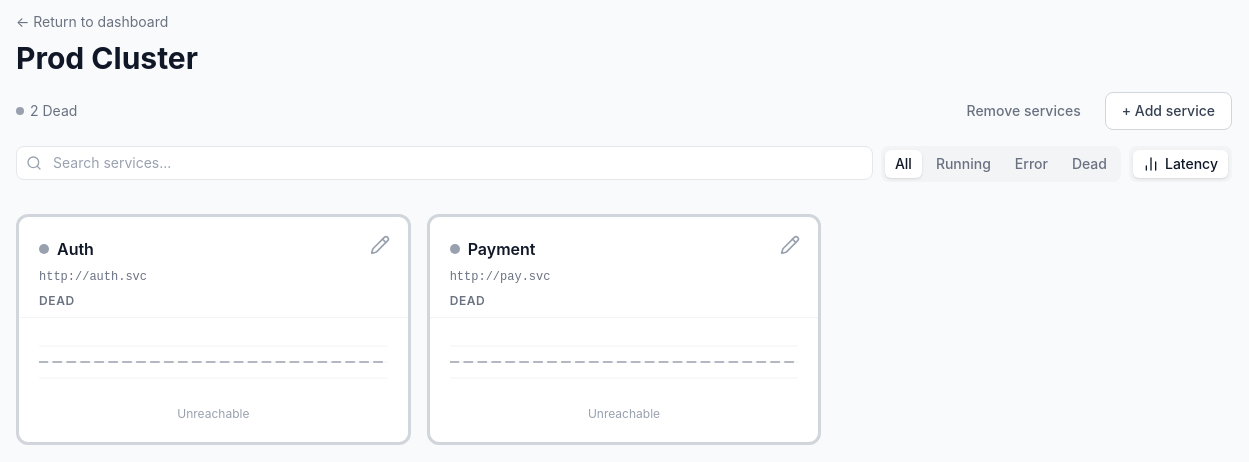
ServiceDashboard › filters services by name when searching
Expected: the heading "Auth" is shown, [57, 237, 94, 261]
Type "auth" into the search field with placeholder "Search services..." at (444, 163), box [16, 146, 873, 180]
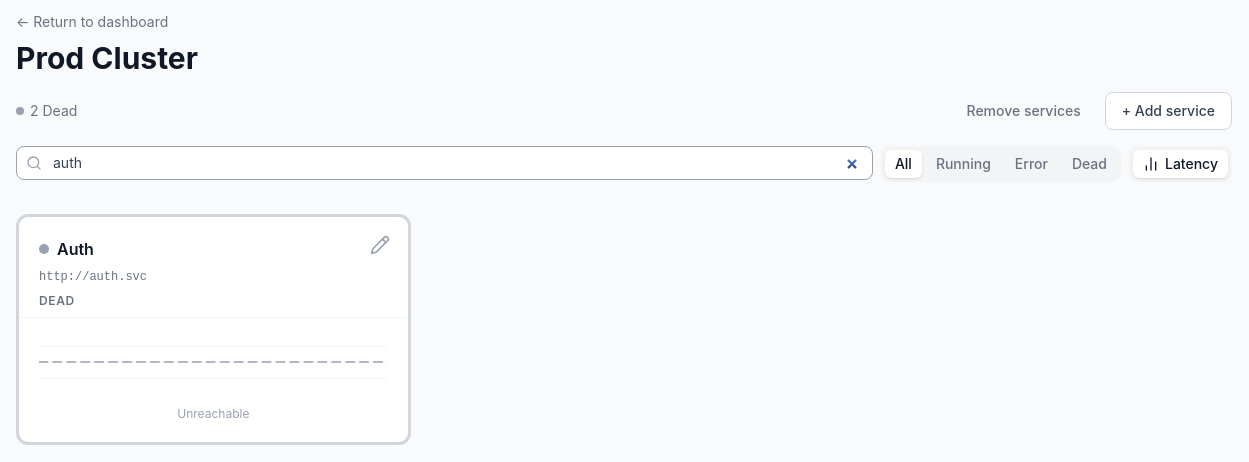
Expected: the heading "Auth" is shown, [57, 237, 94, 261]
Expected: the heading "Payment" is gone
